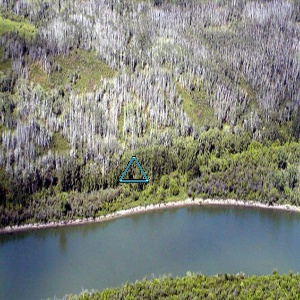triangle: (115, 154, 152, 184)
